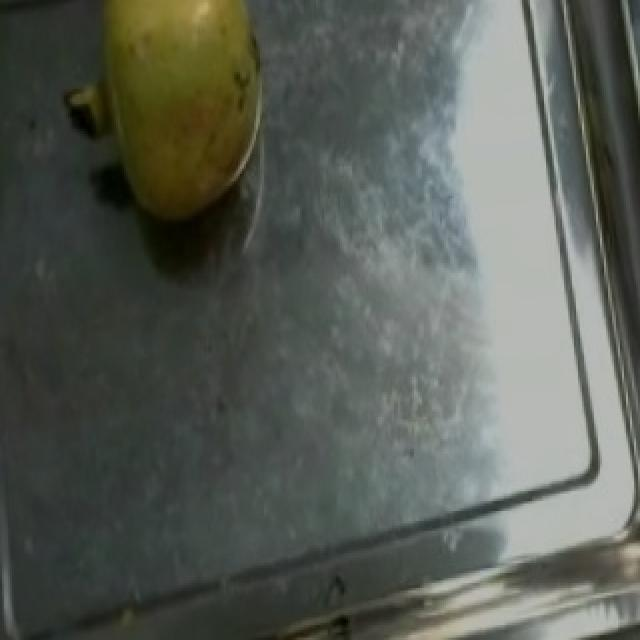fruit: (28, 0, 300, 248)
